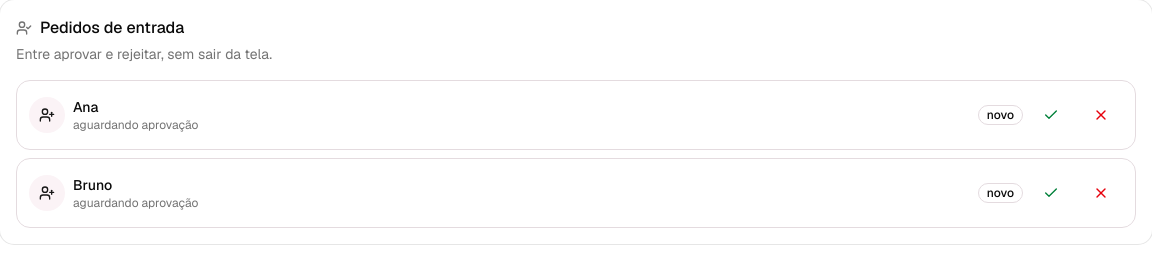
it: PendingEntries › aprova o pedido, tira da lista e avisa a sala
Check: the text "Ana" is shown, box [73,98,98,116]
Click the button named "Aprovar Ana" at (1051,115), box [1029,93,1073,137]
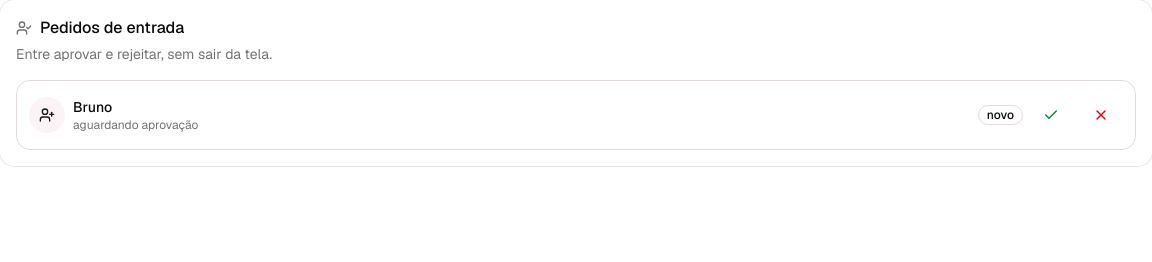
Check: the text "Ana" is gone
